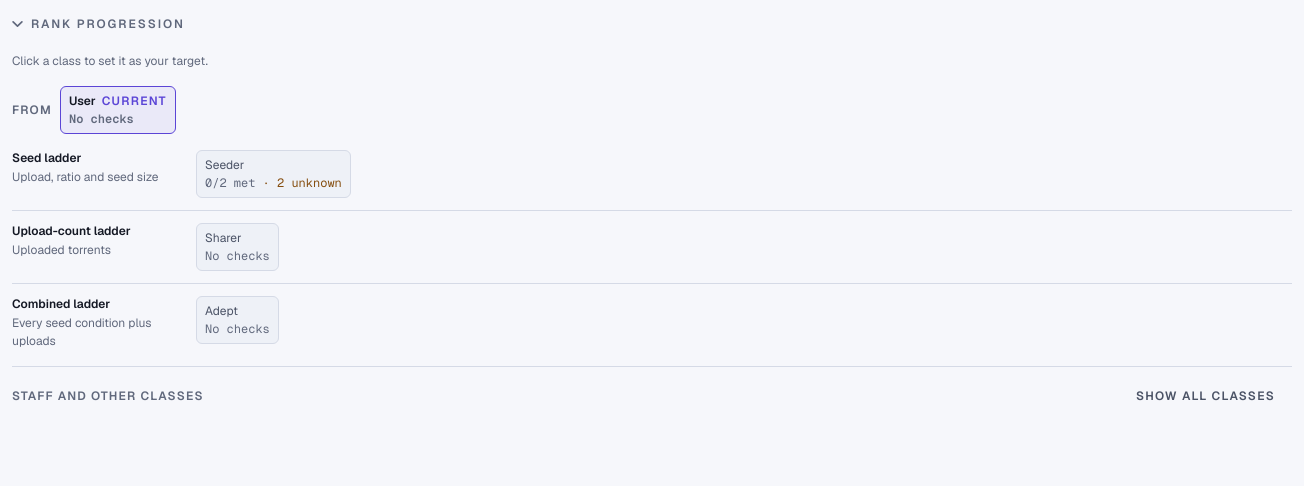
Test case: RankProgress rows › hides staff and off-ladder classes behind Show all classes
This screenshot has width=1304, height=486.
Check: the text "Uploader" is not shown
Check: the text "Parked" is not shown
Step 1. Click the button "Show all classes" → (1206, 396), box 1119,379 -> 1292,413
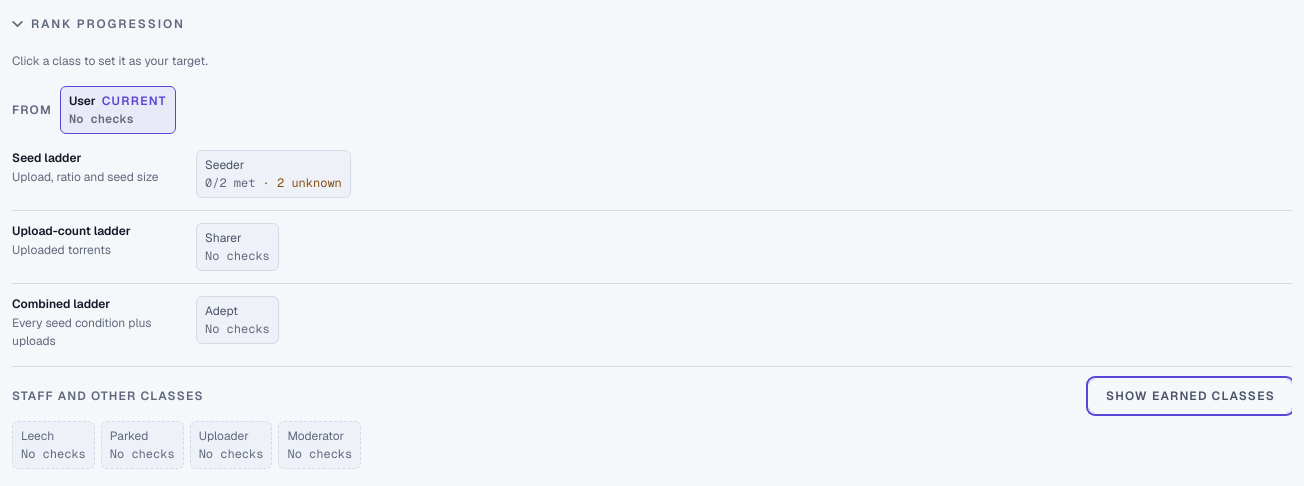
Check: the text "Uploader" is shown, box 199,428 -> 249,444
Check: the text "Parked" is shown, box 110,428 -> 148,444
